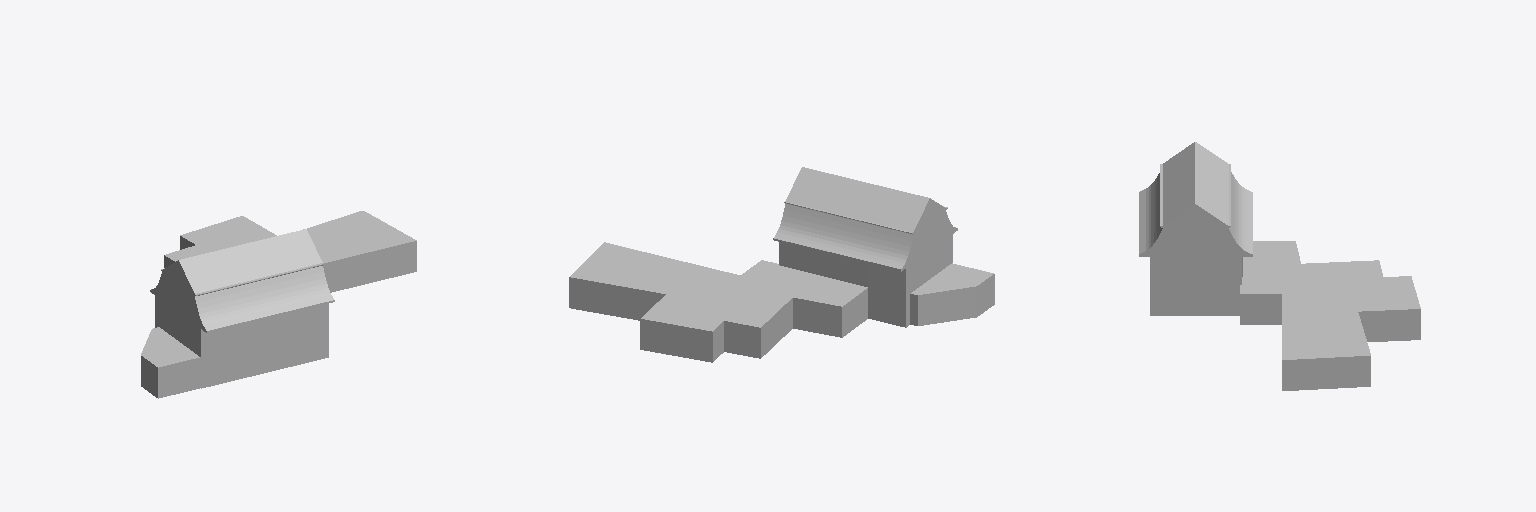
3 views of the same model, side by side, from view 1: azimuth 30°, elevation 25°; view 2: azimuth 150°, elevation 25°; view 3: azimuth 270°, elevation 25° (orthographic).
Parts seen in each view (by area): view 1: Haus_19_Glass_-_Optimized; view 2: Haus_19_Glass_-_Optimized; view 3: Haus_19_Glass_-_Optimized.
Part boxes in pixels (bbox=[...]): Haus_19_Glass_-_Optimized: bbox=[141, 211, 416, 398]; Haus_19_Glass_-_Optimized: bbox=[569, 167, 994, 362]; Haus_19_Glass_-_Optimized: bbox=[1139, 142, 1420, 390].
Bounding box in the file's own units: 169 × 55.94 × 127.